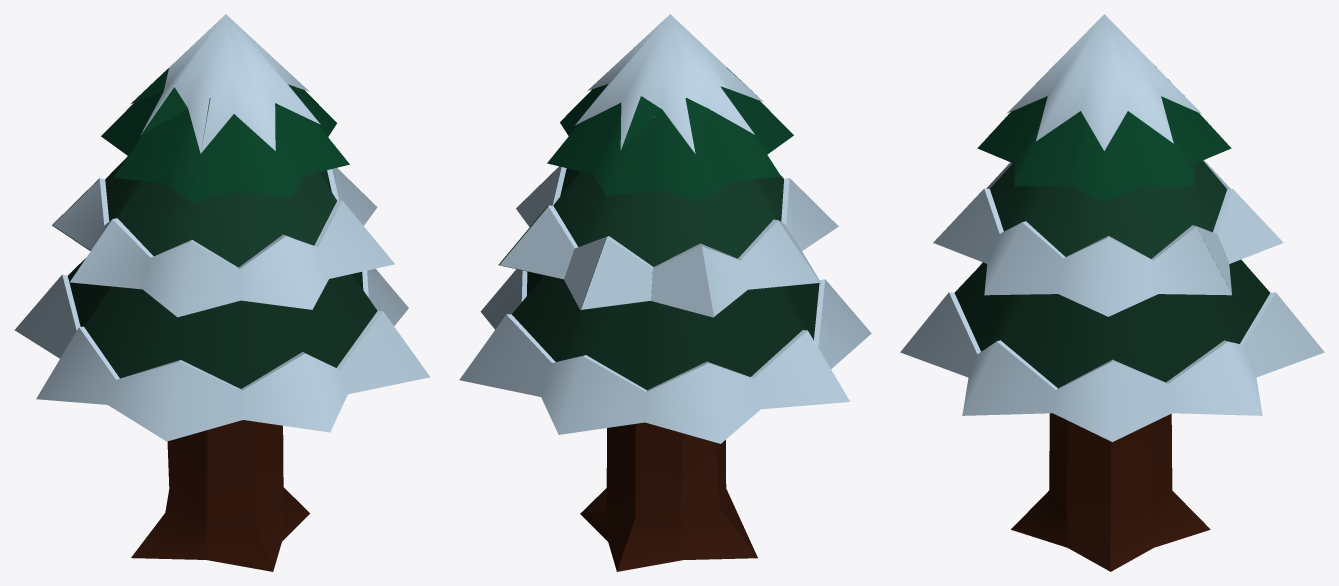
Rendered from M.arvore3.fbx.
3 renders of one model, left to right at view 1: azimuth 30°, elevation 25°; view 2: azimuth 150°, elevation 25°; view 3: azimuth 270°, elevation 25°, orthographic.
Parts seen in each view (by area): view 1: pasted__pasted__pCone2; view 2: pasted__pasted__pCone2; view 3: pasted__pasted__pCone2.
Part boxes in pixels (x1,y1,x2,y2): pasted__pasted__pCone2: (14, 14, 430, 571); pasted__pasted__pCone2: (459, 14, 871, 571); pasted__pasted__pCone2: (900, 14, 1324, 571).
Bounding box in the file's own units: 4.02 × 5.4 × 4.02.
